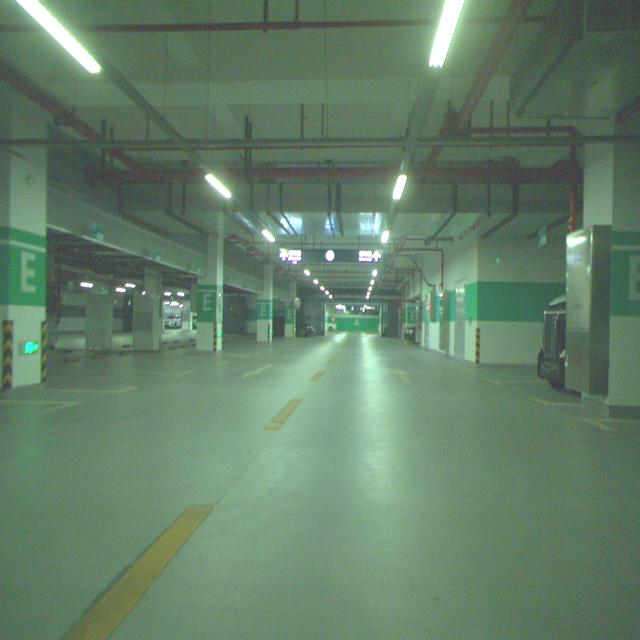pillar: (196, 234, 224, 352), (258, 264, 274, 342)
